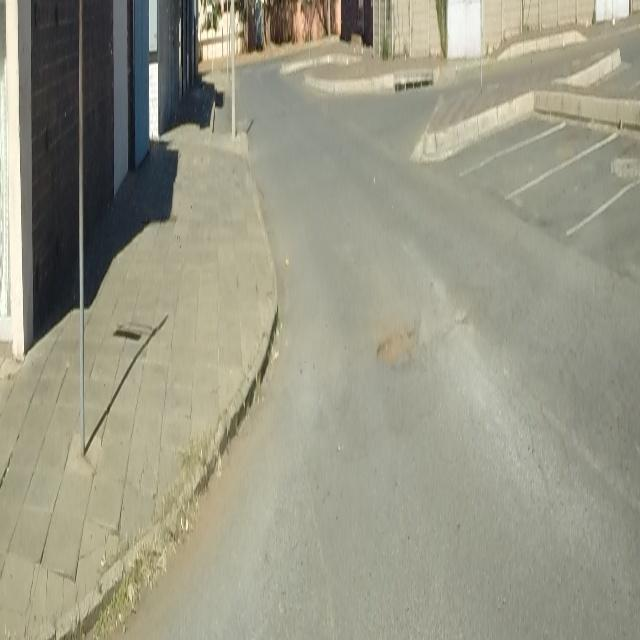pothole: (373, 322, 416, 366)
